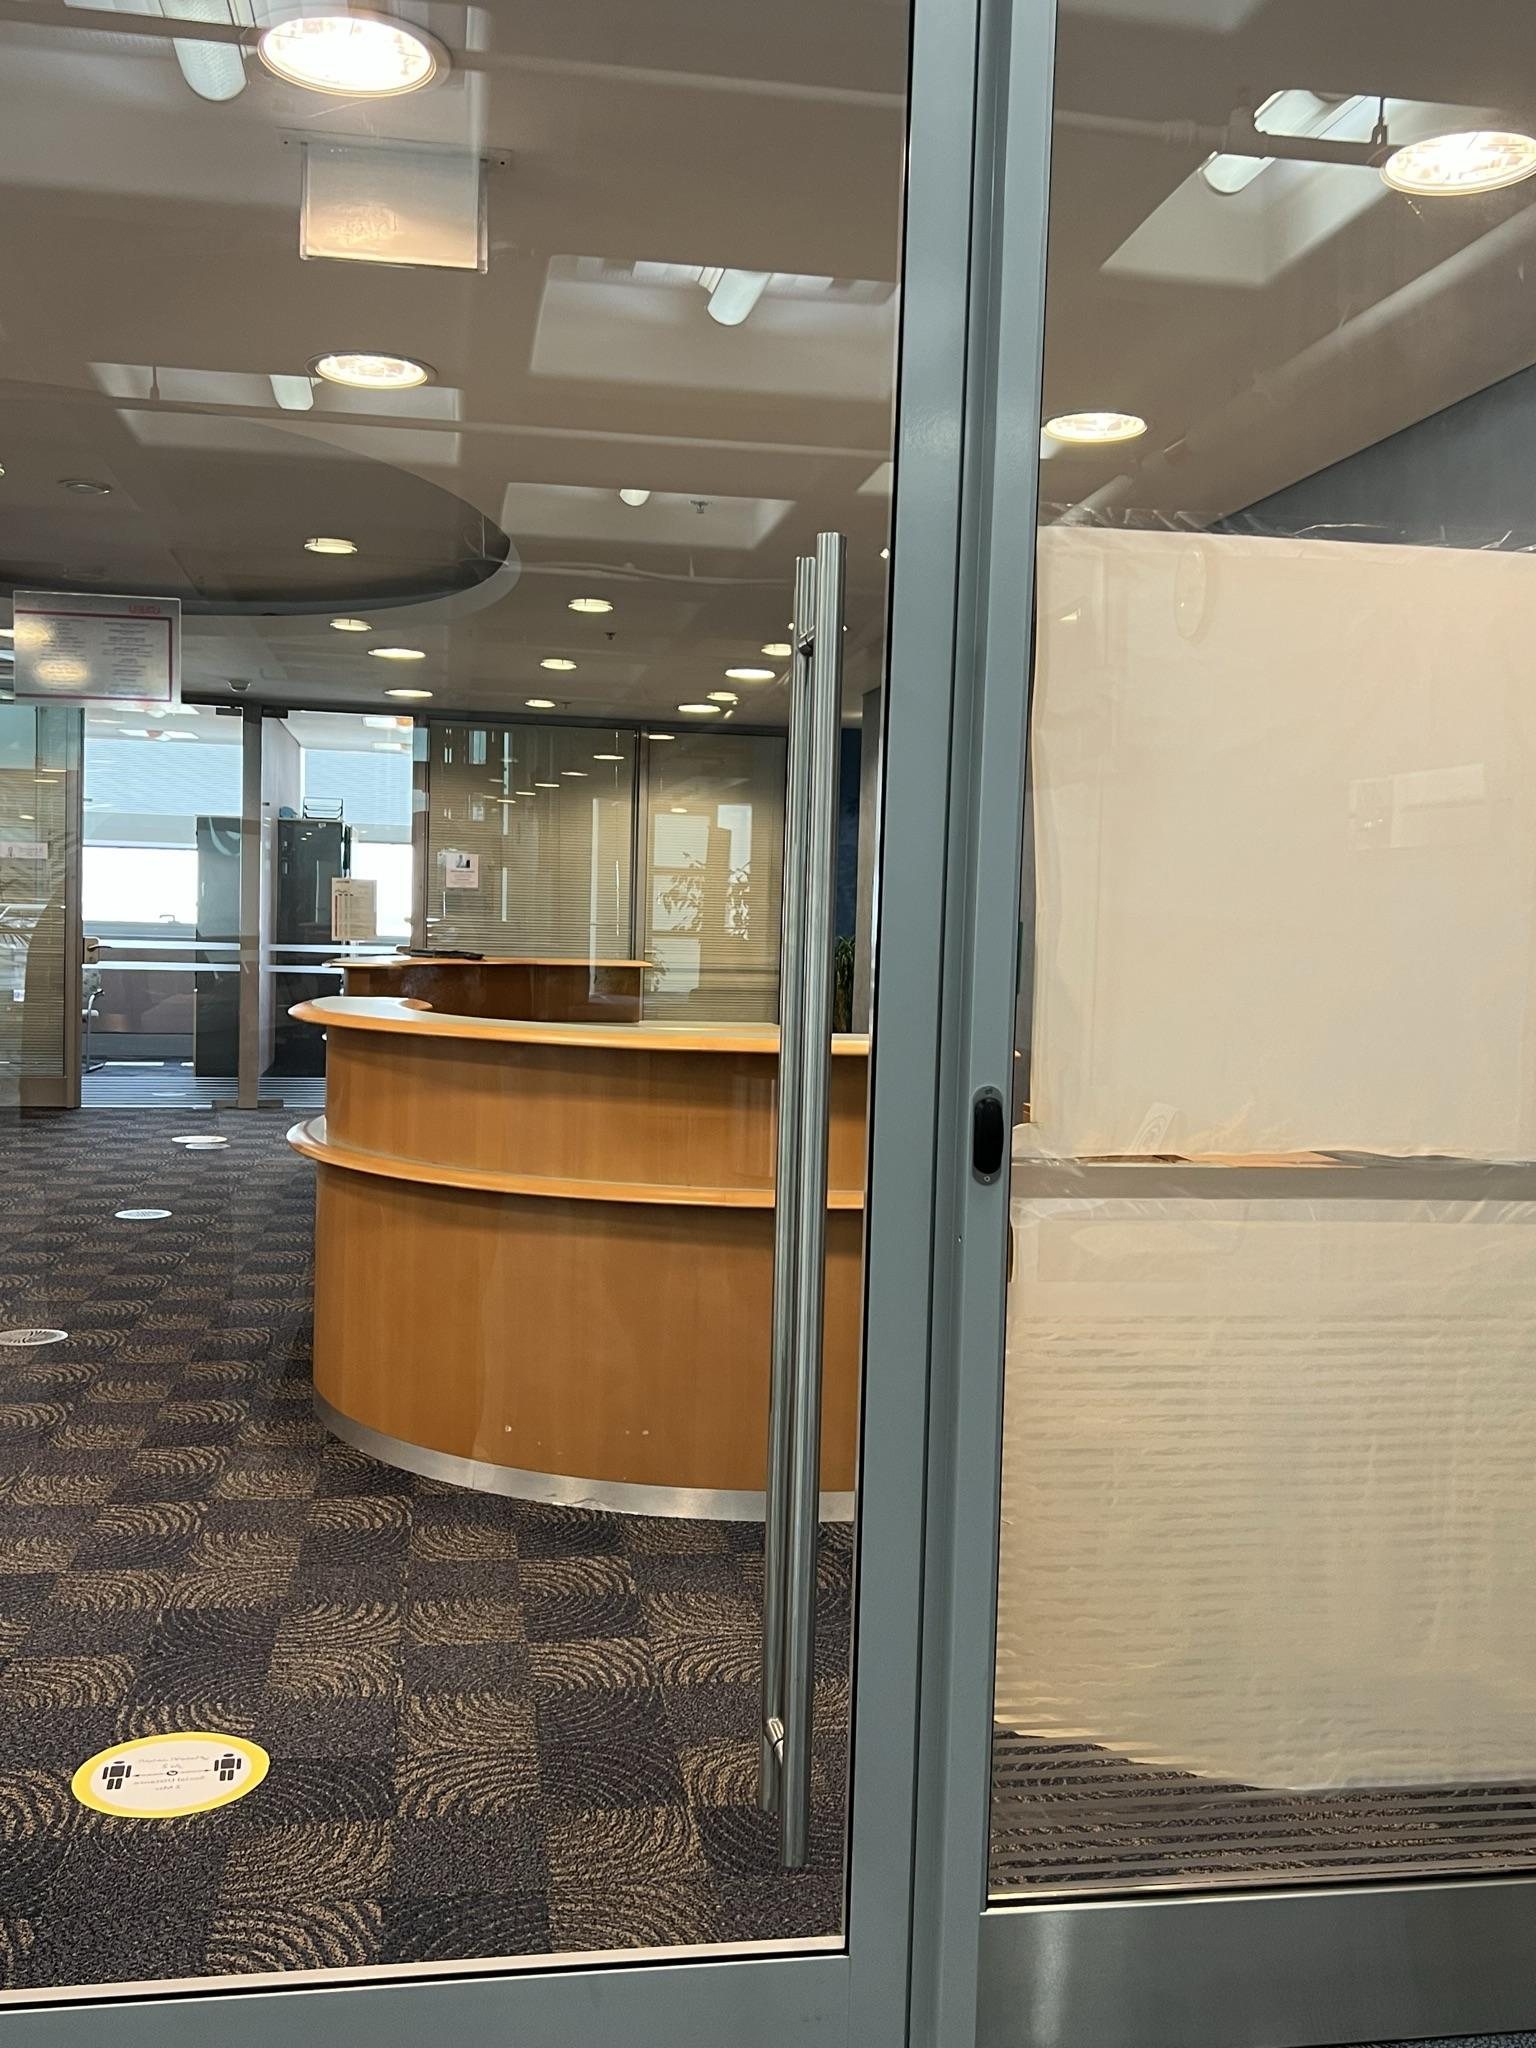door: (0, 40, 1015, 2048)
handle: (739, 526, 858, 1866)
